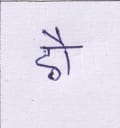au_matra: (52, 28, 75, 74)
